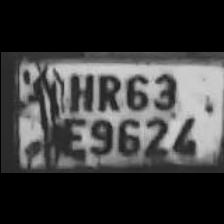2: (141, 113, 167, 156)
3: (149, 68, 178, 108)
4: (168, 110, 198, 156)
6: (121, 70, 149, 110), (114, 113, 140, 155)
9: (85, 113, 113, 155)
E: (56, 115, 86, 161)
H: (64, 68, 94, 112)
R: (93, 68, 121, 110)
